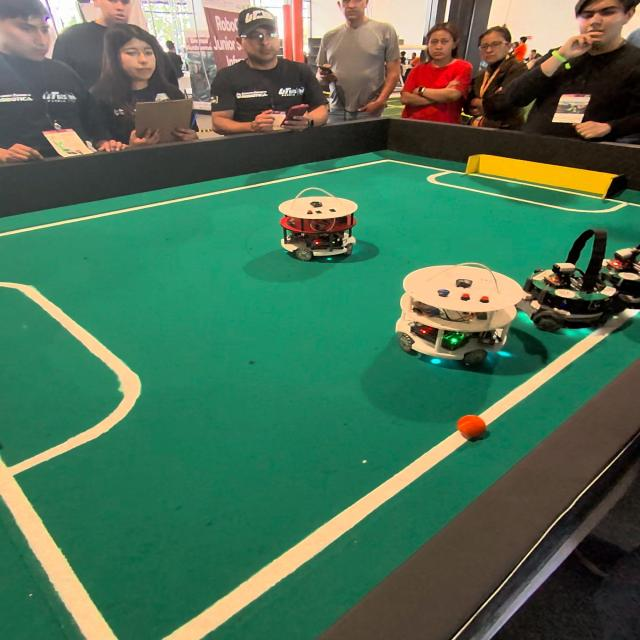Robot: (391, 248, 522, 378), (514, 222, 611, 341), (274, 182, 360, 266), (610, 221, 640, 312)
pelota: (455, 414, 487, 442)
